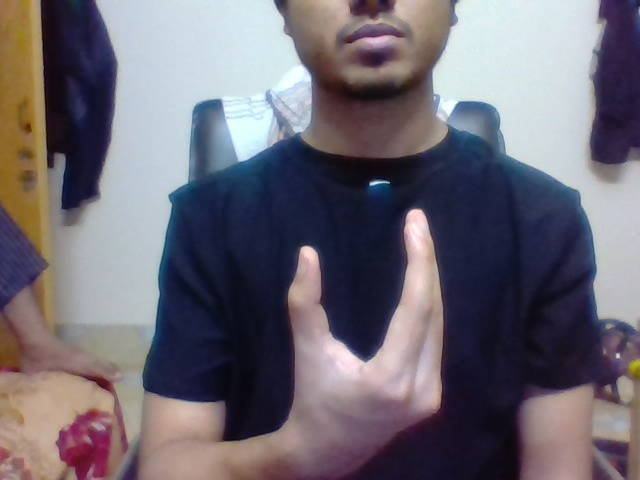U: (278, 197, 455, 378)
